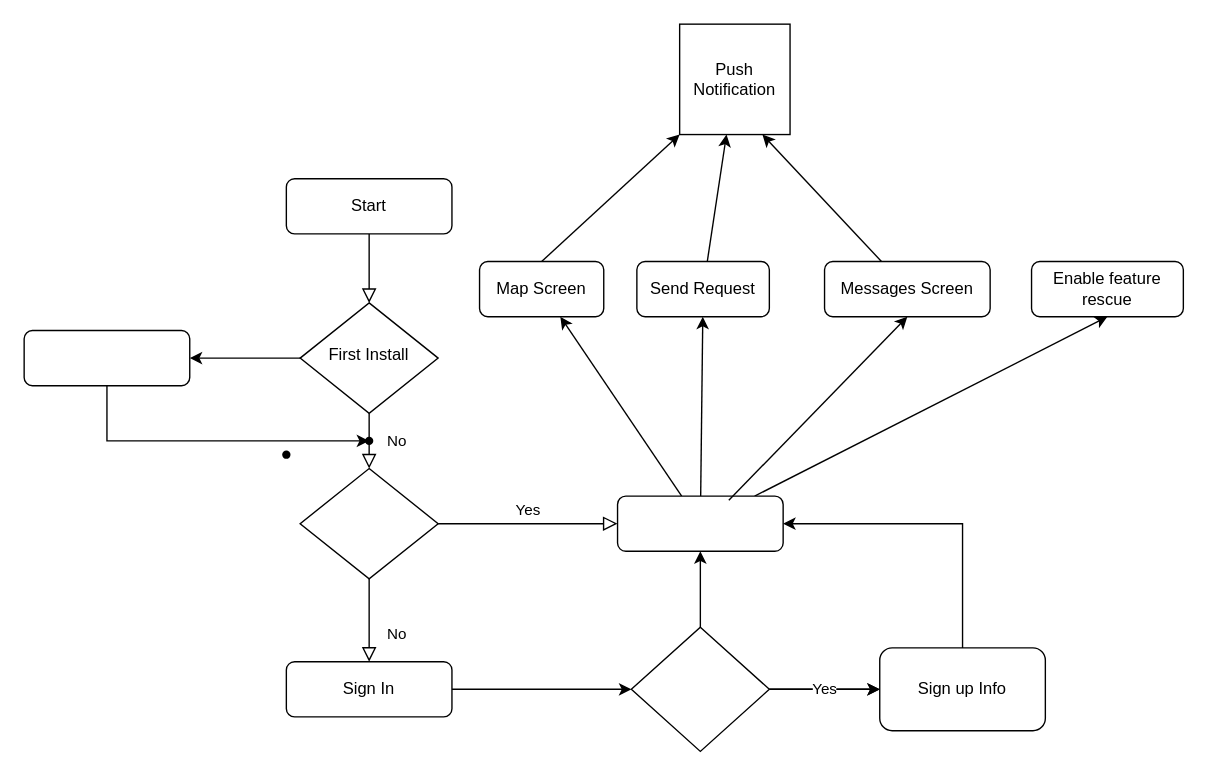
Some shapes in this 1208 by 776 pixel diagram are drawn without their labels. Here are the shapes that lost their labels. From the top down, the centre of each, then its label:
(106,357): Splash screen
(368,523): Authenticated
(699,523): Home Screen
(699,688): New Account
